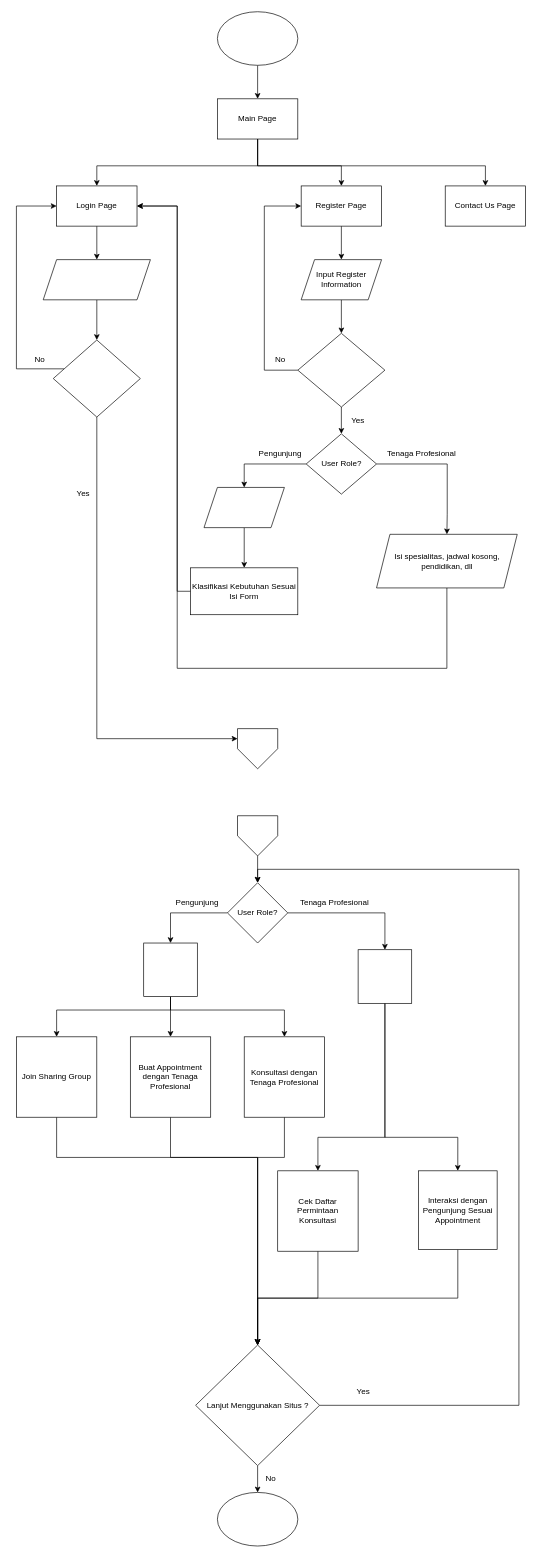
This 537x1558 diagram has some shape labels left out. Here are the shapes that lost their labels. From the top down, the centre of each, then its label:
At pixel 257 38: "Start".
At pixel 96 279: "Input Login Information".
At pixel 96 378: "Valid Login?".
At pixel 341 370: "Valid Register ?".
At pixel 243 507: "Isi Form".
At pixel 170 969: "Dashboard Pengunjung".
At pixel 384 976: "Dashboard Tenaga Profesional".
At pixel 257 1519: "Stop".
